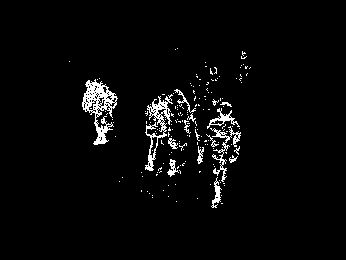person: (206, 101, 242, 209), (80, 77, 118, 147), (162, 88, 190, 178), (142, 94, 166, 171)
